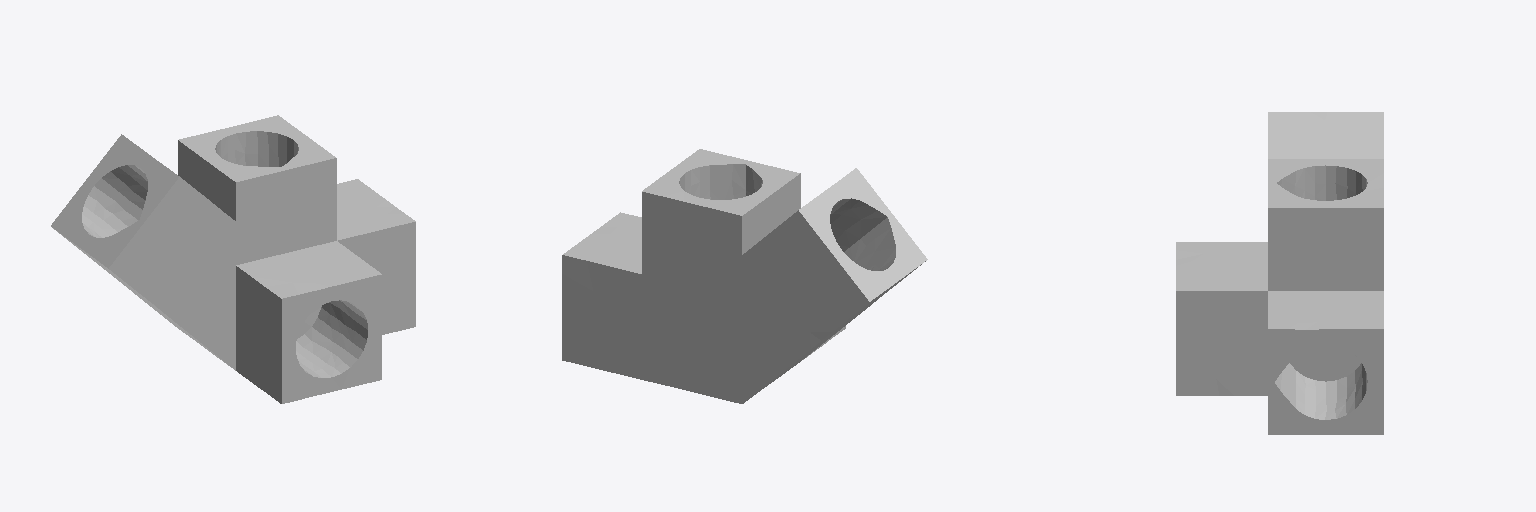
Rendered from WendyHouse-RIGHTGABLE01.stl__sf.obj.
The picture shows the model from 3 angles: view 1: azimuth 30°, elevation 25°; view 2: azimuth 150°, elevation 25°; view 3: azimuth 270°, elevation 25°; orthographic projection.
Bounding box in the file's own units: 93.89 × 60.67 × 55.